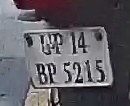1: (83, 58, 94, 82), (68, 31, 78, 57)
2: (73, 61, 84, 84)
4: (78, 31, 89, 55)
5: (94, 58, 107, 85), (61, 60, 72, 84)
B: (31, 61, 47, 85)
P: (46, 61, 59, 86), (54, 32, 65, 55)
U: (39, 33, 52, 56)
